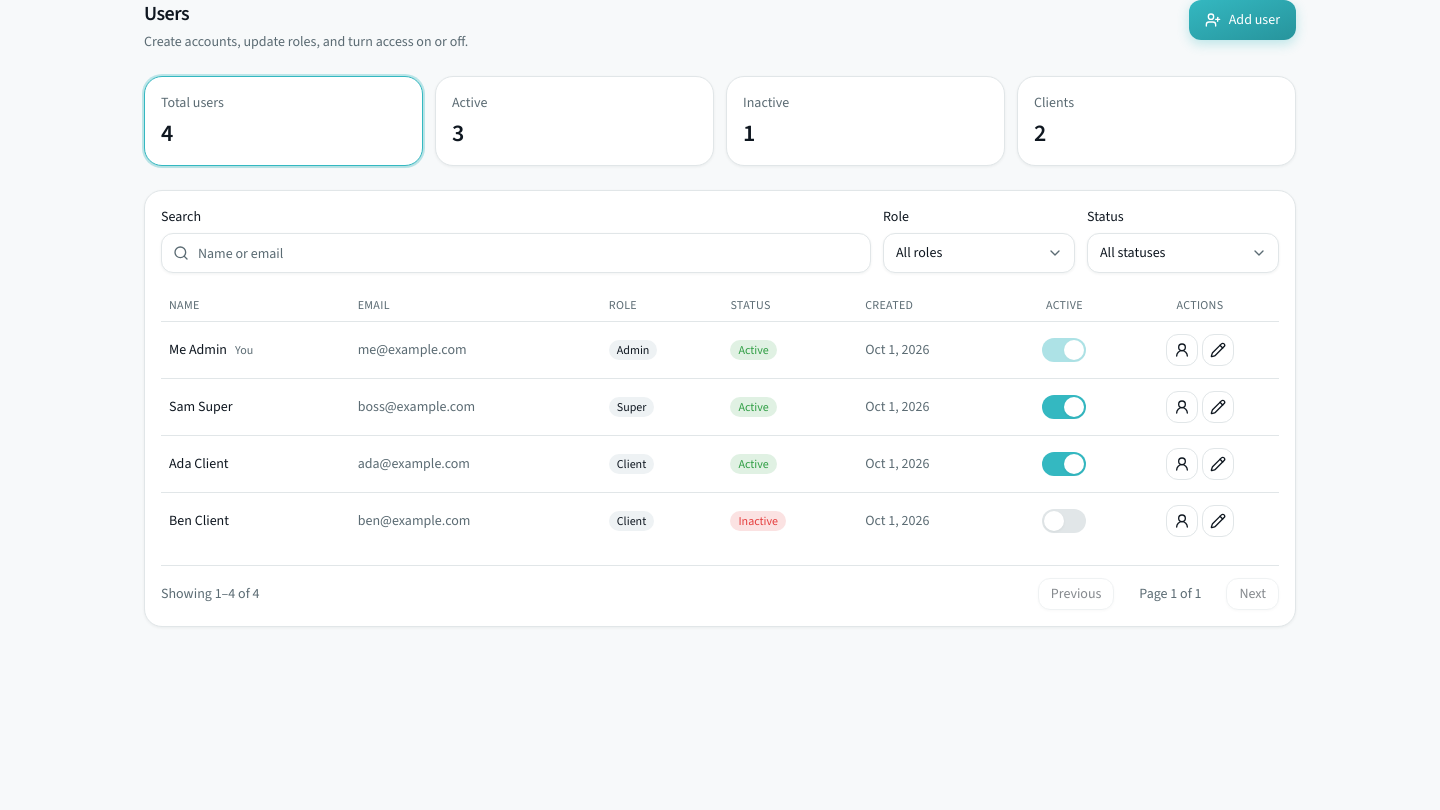
Test: ManageUsersPage › confirms before deactivating, then reloads the directory
Click the switch named "Deactivate Ada Client" at (1064, 464), box [1042,452,1086,476]
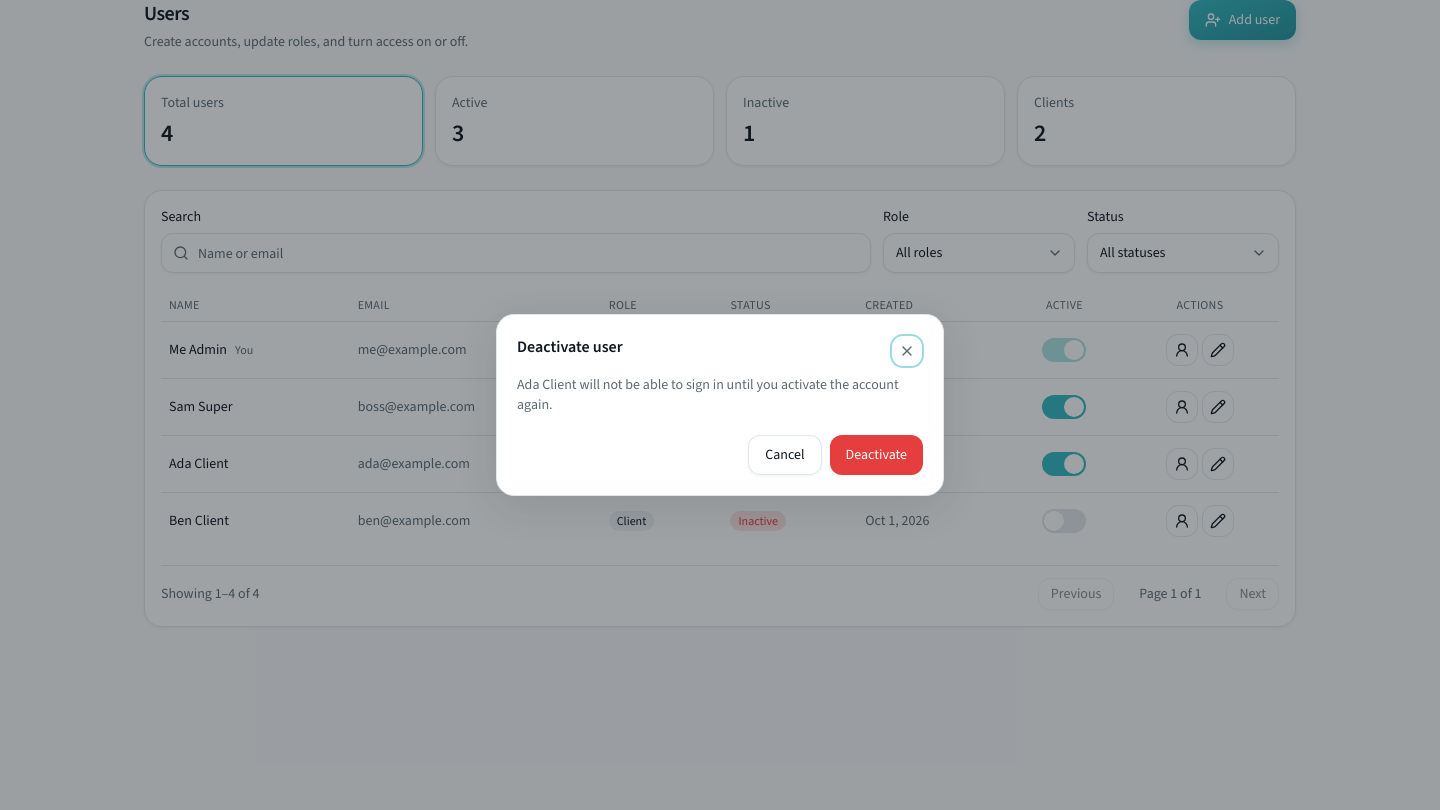
Click the button "Deactivate" at (876, 455), box [830,435,923,475]
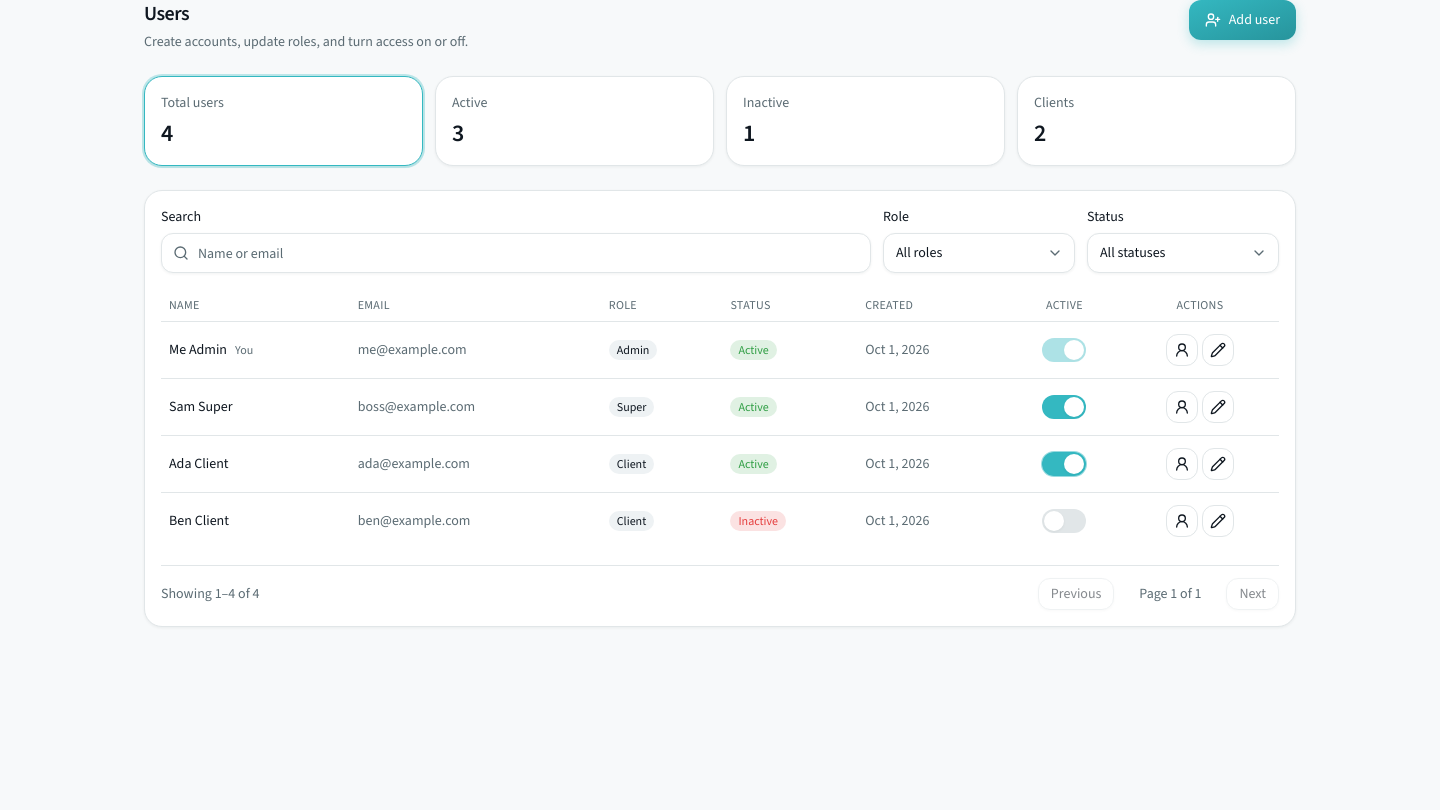
Now the heading "Deactivate user" is gone
